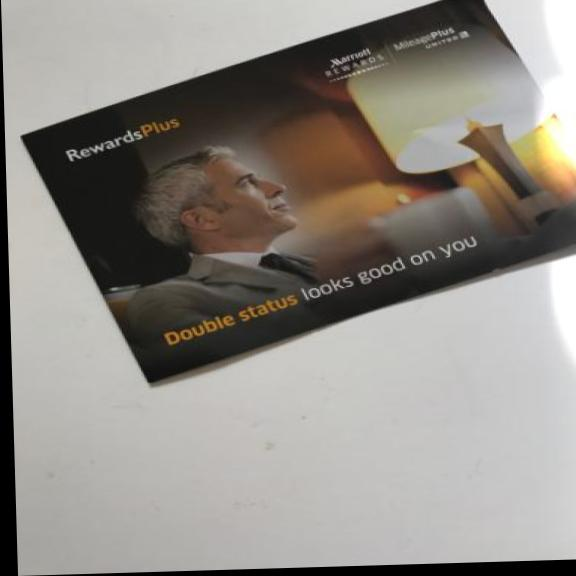Kertas: (6, 0, 576, 398)
